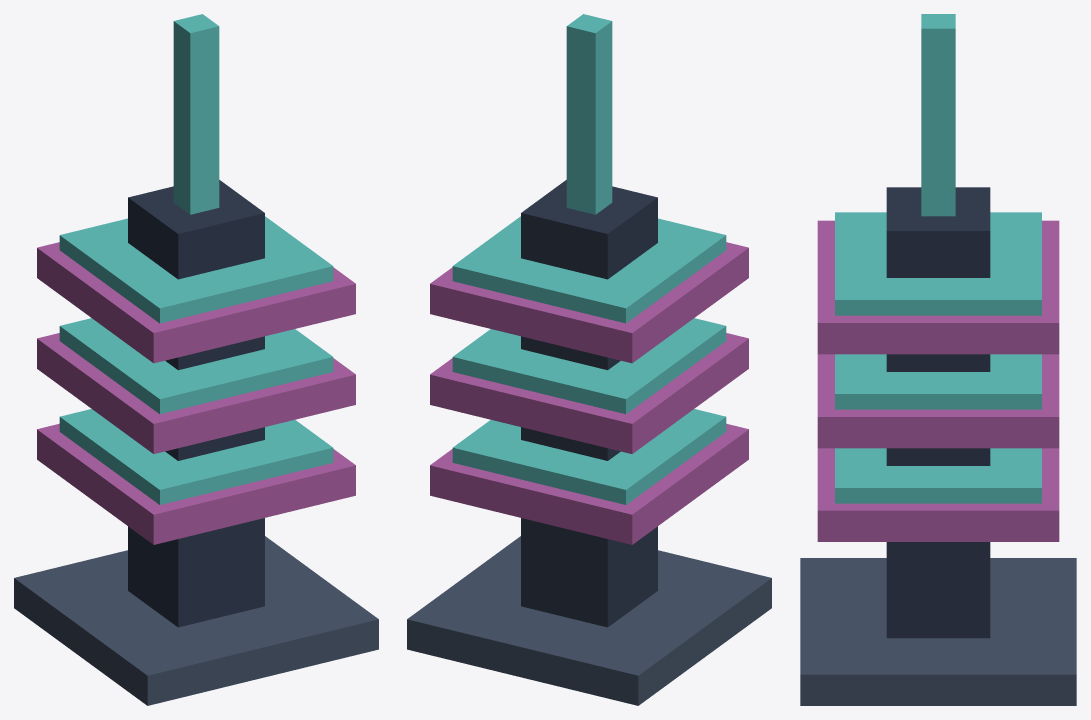
The model's file is landmark.glb.
3 renders of one model, left to right at view 1: azimuth 30°, elevation 25°; view 2: azimuth 150°, elevation 25°; view 3: azimuth 270°, elevation 25°, orthographic. The views are drawn at different scales.
Parts seen in each view (by area): view 1: Shell; view 2: Shell; view 3: Shell.
Part boxes in pixels (x1,y1,x2,y2): Shell: (14, 14, 378, 705); Shell: (407, 14, 771, 705); Shell: (800, 14, 1076, 705).
Bounding box in the file's own units: 2 × 5 × 2.
